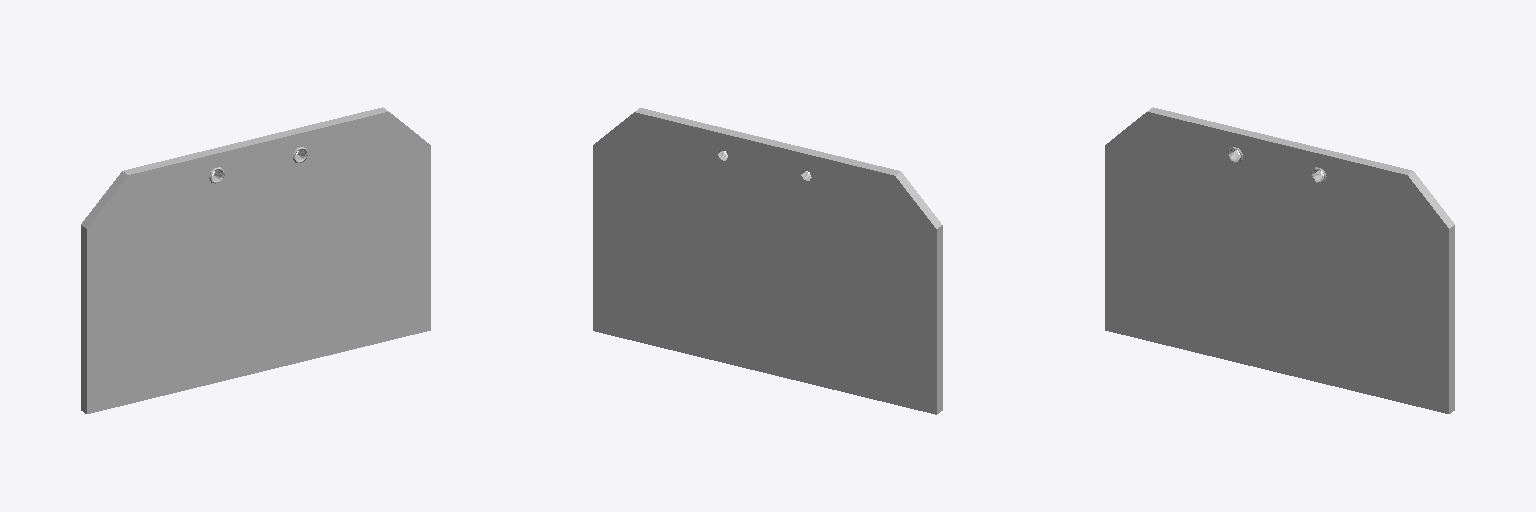
The model's file is 光荣之家.exported.obj.
3 views of the same model, side by side, from view 1: azimuth 30°, elevation 25°; view 2: azimuth 150°, elevation 25°; view 3: azimuth 330°, elevation 25° (orthographic).
Visible parts, largest first — view 1: ____01; view 2: ____01; view 3: ____01.
Part boxes in pixels (left/top/right/bottom): ____01: left=81, top=107, right=430, bottom=413; ____01: left=593, top=108, right=942, bottom=414; ____01: left=1105, top=107, right=1454, bottom=413.
Size of the model in its own units: 0.0066 by 0.0042 by 0.0002.